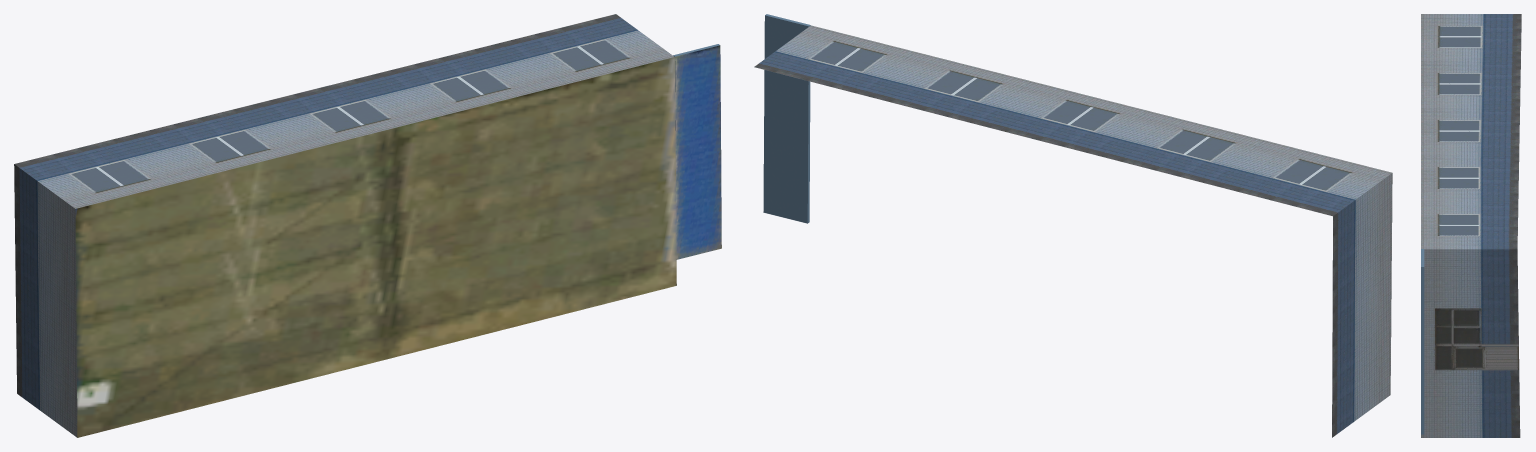
3 views of the same model, side by side, from view 1: azimuth 30°, elevation 25°; view 2: azimuth 150°, elevation 25°; view 3: azimuth 270°, elevation 25° (orthographic). The views are drawn at different scales.
Visible parts, largest first — view 1: Group_MatrixTransform_i96048_Geometry_5, Group_MatrixTransform_i96048_Geometry_1, Group_MatrixTransform_i96048_Geometry_2, Group_MatrixTransform_i96048_Geometry_4; view 2: Group_MatrixTransform_i96048_Geometry_1, Group_MatrixTransform_i96048_Geometry_2, Group_MatrixTransform_i96048_Geometry_3; view 3: Group_MatrixTransform_i96048_Geometry_1, Group_MatrixTransform_i96048_Geometry_0, Group_MatrixTransform_i96048_Geometry_2, Group_MatrixTransform_i96048_Geometry_3.
Boxes of the visible parts, bbox=[...] form: Group_MatrixTransform_i96048_Geometry_5: bbox=[75, 57, 676, 437]; Group_MatrixTransform_i96048_Geometry_1: bbox=[14, 14, 674, 208]; Group_MatrixTransform_i96048_Geometry_2: bbox=[14, 164, 77, 437]; Group_MatrixTransform_i96048_Geometry_4: bbox=[675, 45, 721, 259]; Group_MatrixTransform_i96048_Geometry_1: bbox=[754, 25, 1392, 216]; Group_MatrixTransform_i96048_Geometry_2: bbox=[1332, 173, 1392, 437]; Group_MatrixTransform_i96048_Geometry_3: bbox=[763, 14, 810, 223]; Group_MatrixTransform_i96048_Geometry_1: bbox=[1421, 14, 1521, 249]; Group_MatrixTransform_i96048_Geometry_0: bbox=[1424, 296, 1519, 390]; Group_MatrixTransform_i96048_Geometry_2: bbox=[1421, 249, 1520, 437]; Group_MatrixTransform_i96048_Geometry_3: bbox=[1421, 249, 1424, 434].
Size of the model in its own units: 22.69 by 7.91 by 3.73.
6 materials, 6 textured.
